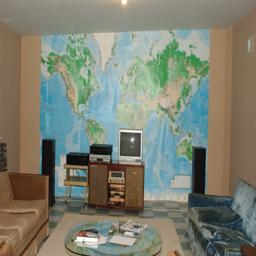sofa: (1, 202, 97, 256), (186, 206, 256, 256)
tvmonitor: (231, 164, 256, 211)
